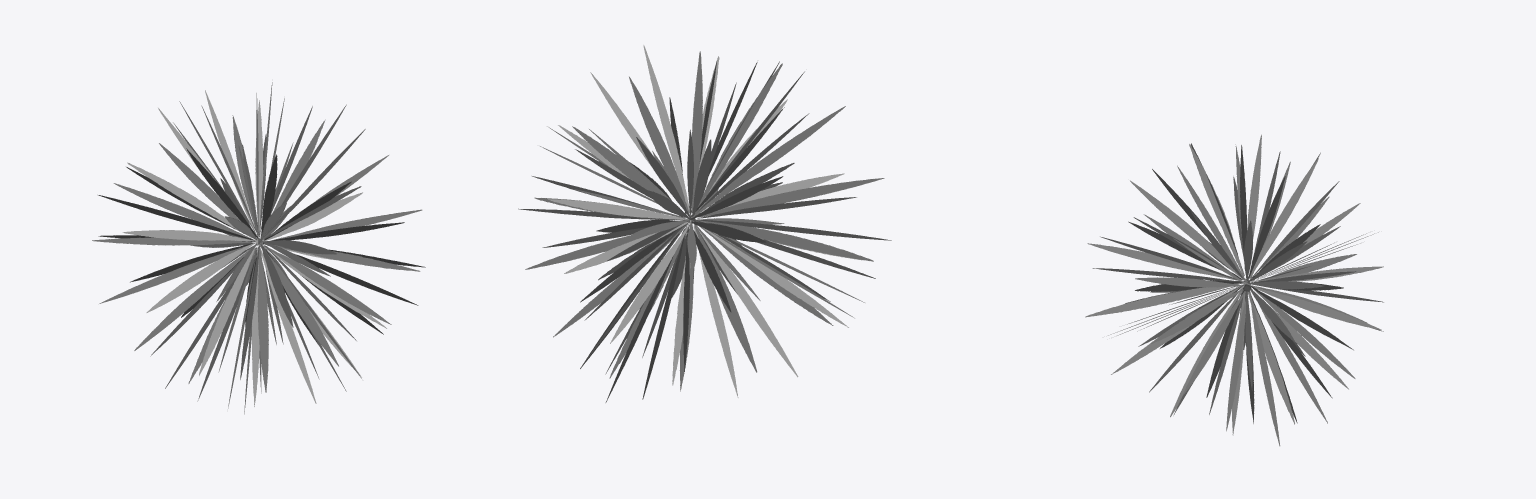
Rendered from leaf1.fbx.
3 renders of one model, left to right at view 1: azimuth 30°, elevation 25°; view 2: azimuth 150°, elevation 25°; view 3: azimuth 270°, elevation 25°, orthographic. The views are drawn at different scales.
Parts seen in each view (by area): view 1: 009; view 2: 009; view 3: 009.
Boxes of the visible parts, <box> form: 009: <box>92,82,425,414</box>; 009: <box>518,45,891,402</box>; 009: <box>1085,134,1383,446</box>.
Size of the model in its own units: 8.3 by 10.1 by 7.95.
